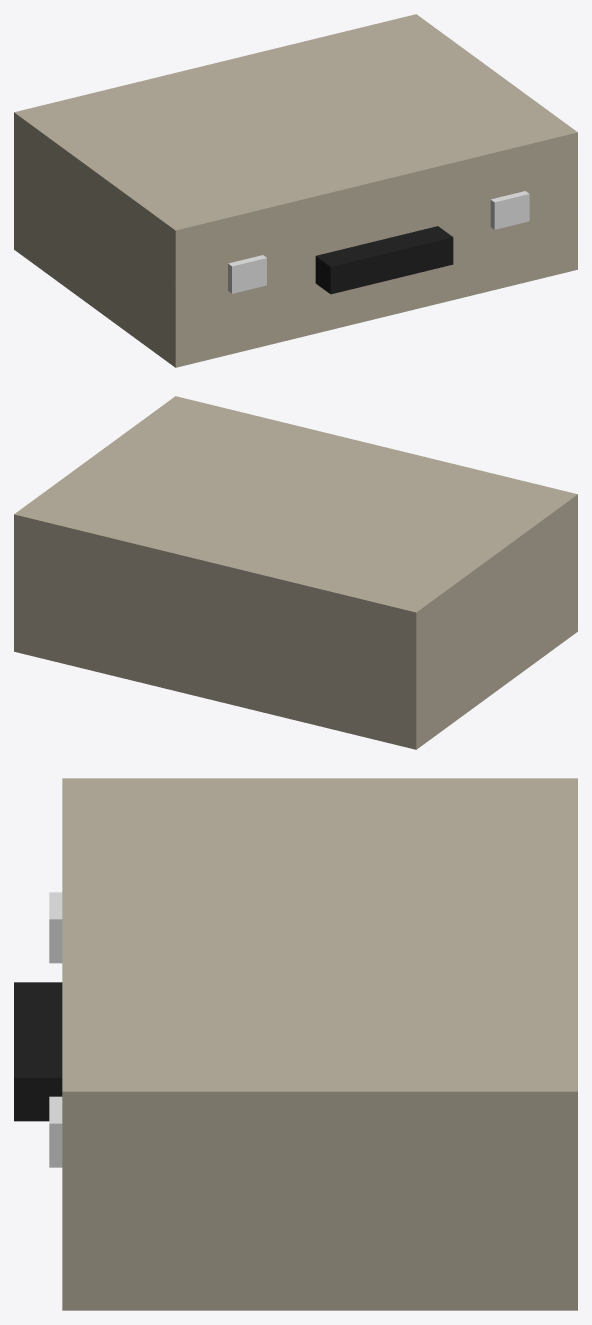
File: hood_case.glb
3 views of the same model, one above another, from view 1: azimuth 30°, elevation 25°; view 2: azimuth 150°, elevation 25°; view 3: azimuth 270°, elevation 25° (orthographic). The views are drawn at different scales.
Visible parts, largest first — view 1: lid, shell, handle.001, latch.002; view 2: lid, shell; view 3: lid, shell, handle.001, latch.002.
Part boxes in pixels (<box>): lid: <box>14,14,577,285</box>; shell: <box>14,167,577,367</box>; handle.001: <box>315,226,453,294</box>; latch.002: <box>228,191,529,293</box>; lid: <box>14,396,577,667</box>; shell: <box>14,549,577,749</box>; lid: <box>62,778,577,1179</box>; shell: <box>62,1179,577,1310</box>; handle.001: <box>14,982,62,1121</box>; latch.002: <box>49,892,62,1167</box>.
Bounding box in the file's own units: 0.46 × 0.15 × 0.35.
